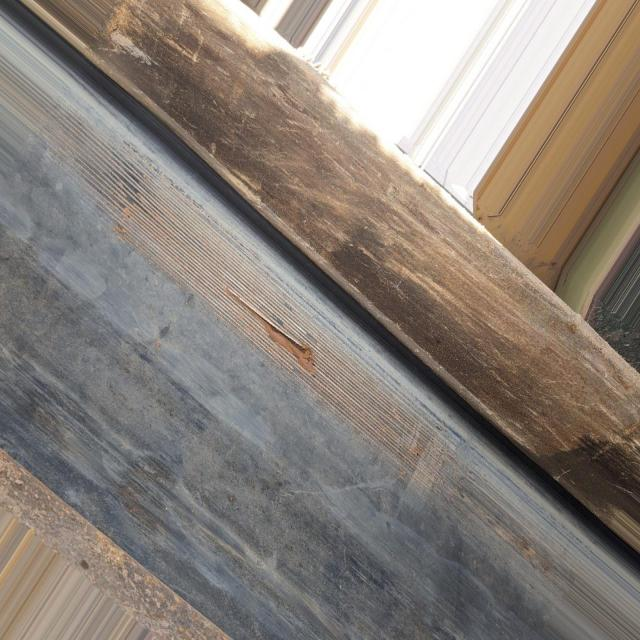impact damage: (113, 147, 438, 468)
